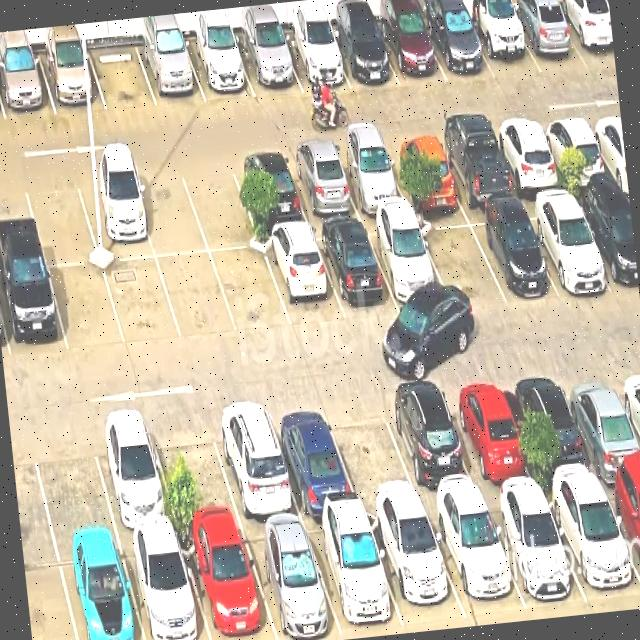empty: (323, 392, 421, 507), (147, 411, 241, 530), (28, 419, 116, 543), (415, 213, 506, 309), (179, 157, 260, 252), (130, 164, 208, 256), (22, 173, 99, 265), (103, 257, 182, 346), (156, 253, 237, 339), (210, 248, 291, 332), (48, 264, 125, 352), (87, 43, 157, 109)
occupied: (303, 512, 405, 639), (379, 383, 482, 505), (240, 520, 342, 640), (543, 483, 640, 609), (484, 493, 587, 610), (425, 499, 526, 617), (365, 508, 466, 625), (441, 376, 538, 497), (207, 399, 301, 523), (178, 525, 277, 640), (265, 398, 359, 515), (509, 370, 601, 489), (87, 414, 178, 534), (119, 531, 210, 640), (559, 366, 640, 482), (520, 195, 613, 294), (56, 537, 143, 640), (465, 207, 557, 302), (260, 228, 345, 328), (313, 222, 399, 319), (364, 218, 453, 310), (74, 169, 155, 261), (572, 191, 639, 293), (0, 263, 68, 359), (434, 128, 517, 206), (230, 151, 309, 230), (283, 146, 361, 222), (331, 141, 409, 215), (383, 135, 463, 207), (463, 7, 541, 80), (506, 4, 588, 73), (490, 121, 566, 195), (538, 116, 613, 188), (375, 13, 447, 86), (420, 11, 494, 81), (326, 21, 399, 88), (136, 39, 205, 106), (183, 38, 255, 102), (38, 48, 106, 114), (279, 29, 350, 91), (235, 34, 302, 96), (554, 0, 615, 67), (601, 476, 640, 579), (0, 53, 56, 120)
